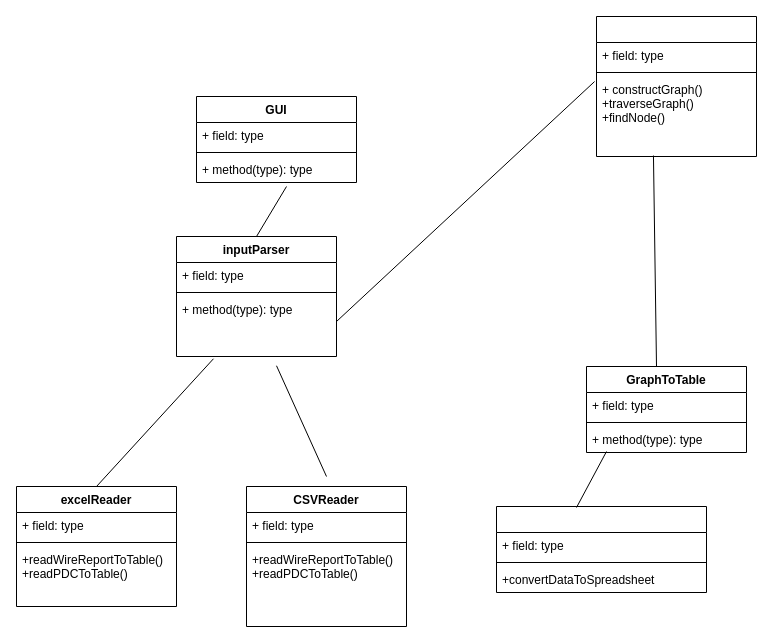
This 773x643 diagram has some shape labels left out. Each missing label, with the box of its shape:
GraphManager: (596, 16, 756, 156)
OuputDataToExcel: (496, 506, 706, 592)
